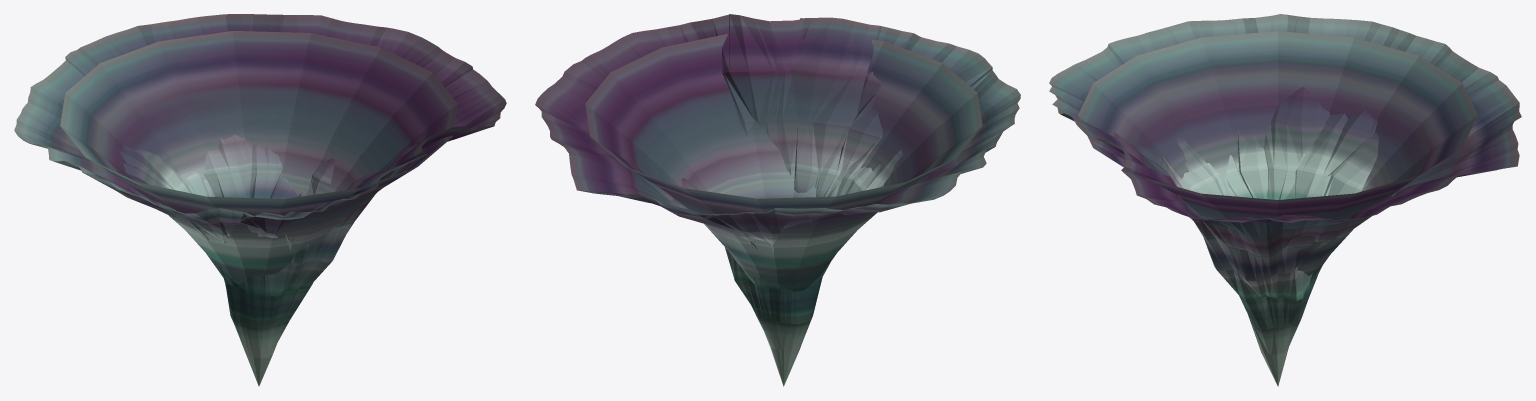
File: tornado.fbx
3 renders of one model, left to right at view 1: azimuth 30°, elevation 25°; view 2: azimuth 150°, elevation 25°; view 3: azimuth 270°, elevation 25°, orthographic.
Parts seen in each view (by area): view 1: Cone.001, Cone; view 2: Cone, Cone.001; view 3: Cone, Cone.001.
Boxes of the visible parts, box(x1,y1,x2,y2) form: Cone.001: box(60, 31, 457, 284); Cone: box(14, 14, 506, 386); Cone: box(535, 14, 1020, 386); Cone.001: box(585, 34, 982, 292); Cone: box(1049, 14, 1521, 386); Cone.001: box(1078, 31, 1477, 281).
Bounding box in the file's own units: 336 × 221 × 331.
1 material, 1 textured.
